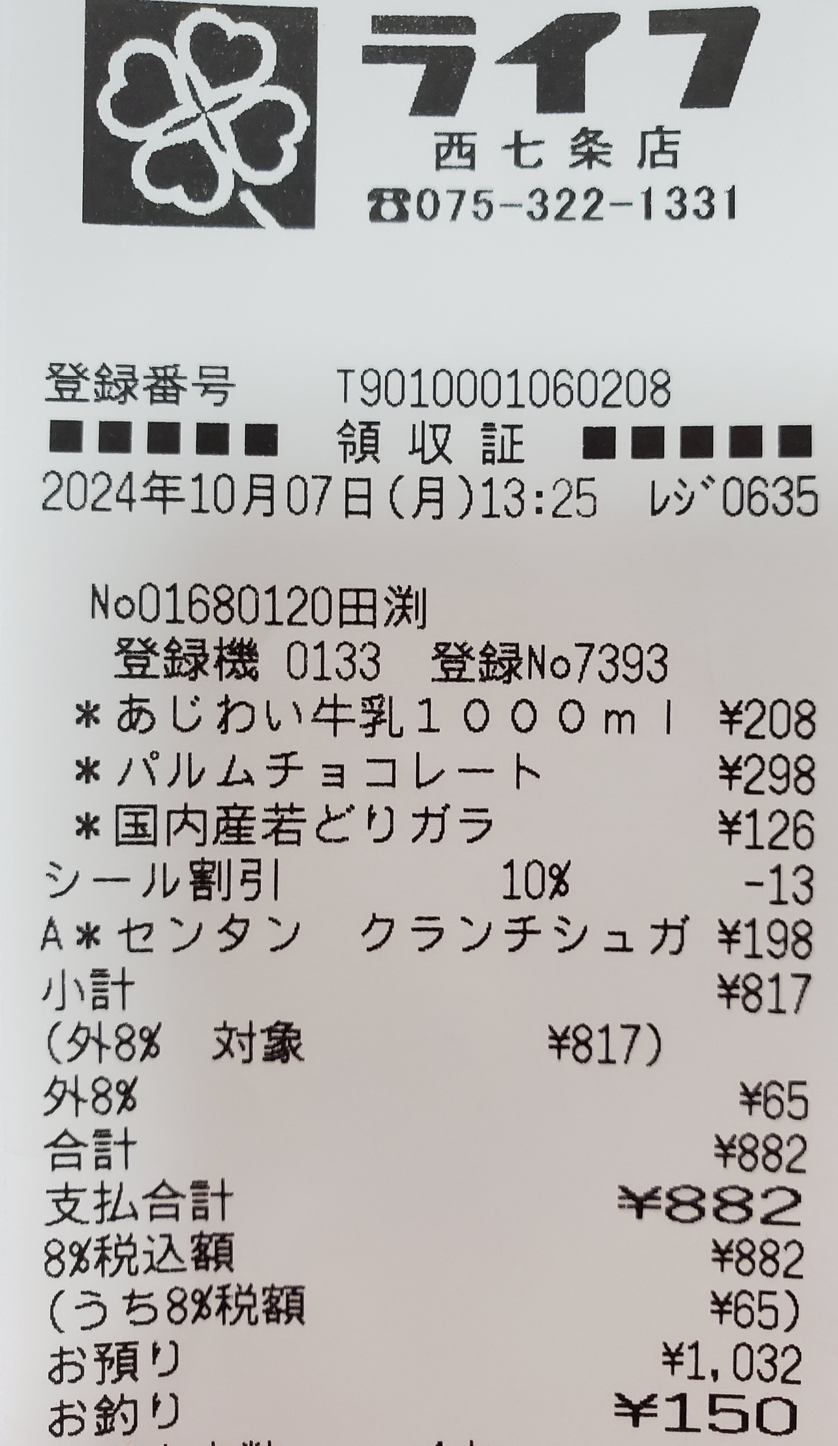Date: (36, 458, 388, 526)
Shopname: (356, 8, 781, 123)
Telnum: (418, 178, 751, 233)
Totalpay: (40, 1176, 827, 1233)
